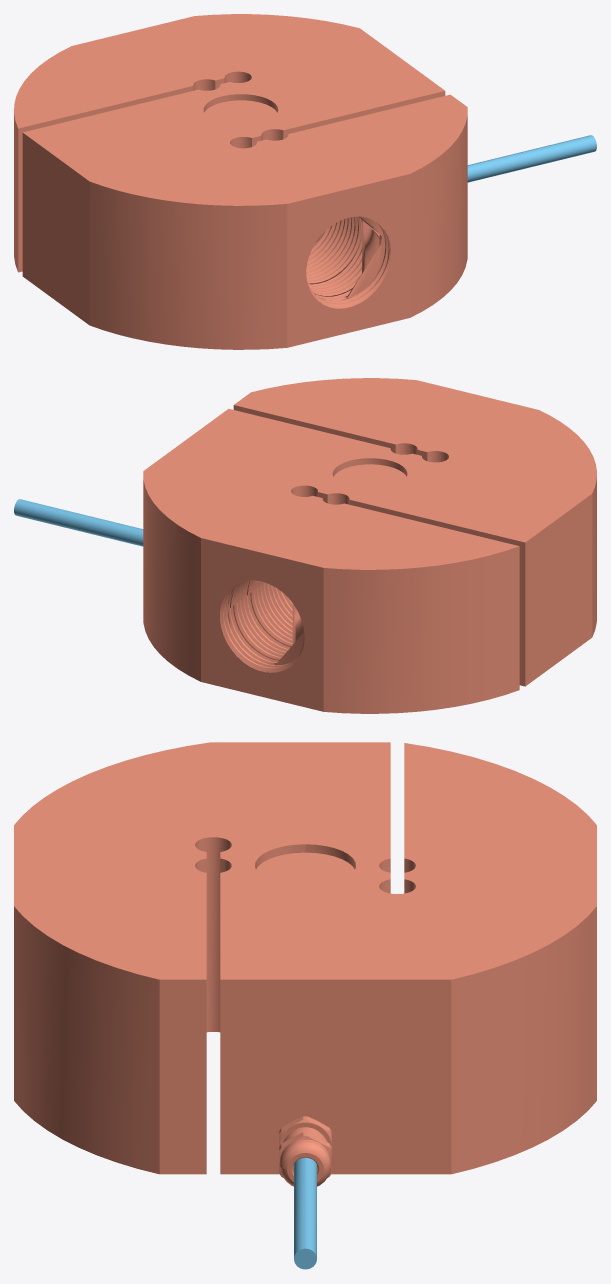
Rendered from 21b34fc4-343a-49f6-84b9-9fba497d6b8e.glb.
3 renders of one model, top to bottom at view 1: azimuth 30°, elevation 25°; view 2: azimuth 150°, elevation 25°; view 3: azimuth 270°, elevation 25°, orthographic. The views are drawn at different scales.
Visible parts, largest first — view 1: STEP_Part_0, STEP_Part_1; view 2: STEP_Part_0, STEP_Part_1; view 3: STEP_Part_0, STEP_Part_1.
Part boxes in pixels (bbox=[...]): STEP_Part_0: bbox=[14, 14, 467, 349]; STEP_Part_1: bbox=[467, 135, 596, 182]; STEP_Part_0: bbox=[143, 378, 596, 713]; STEP_Part_1: bbox=[14, 499, 143, 546]; STEP_Part_0: bbox=[14, 742, 596, 1186]; STEP_Part_1: bbox=[294, 1157, 316, 1269].
Bounding box in the file's own units: 274 × 70 × 190.
